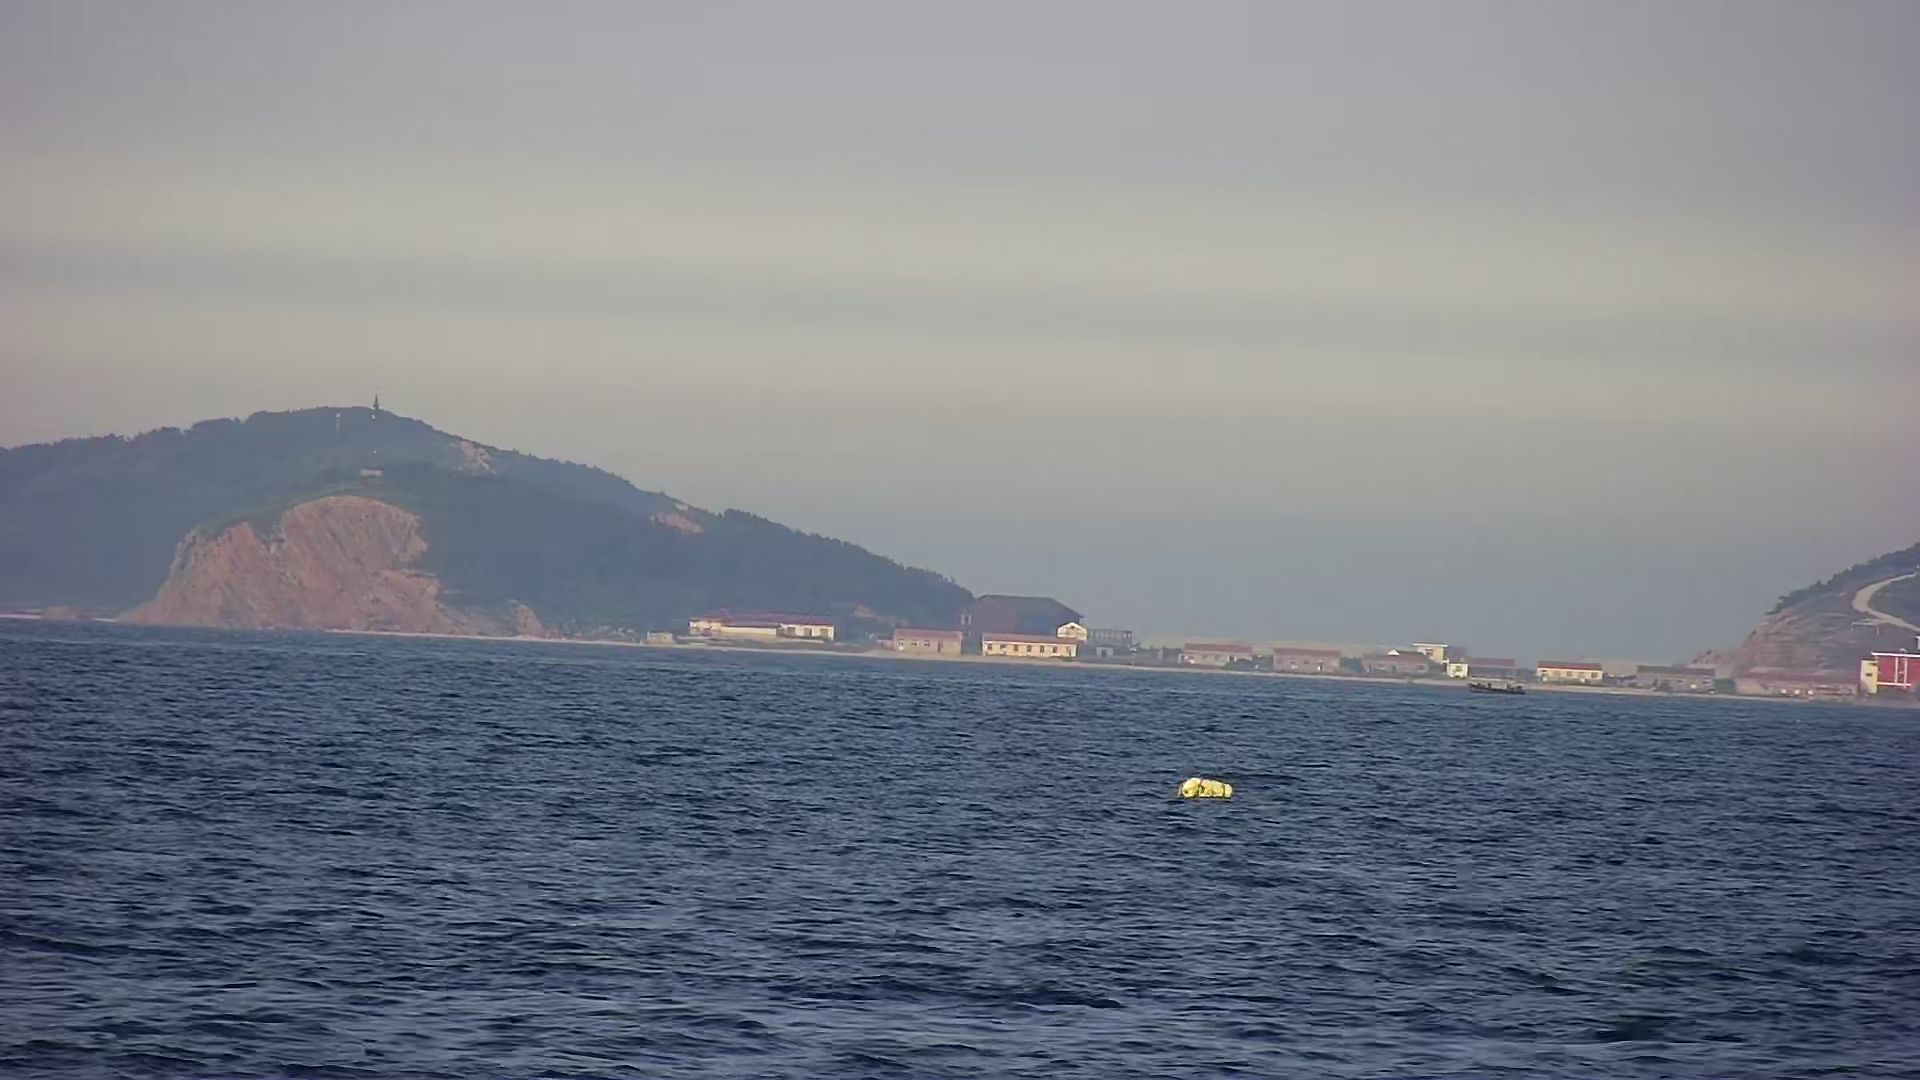rubbish: (1170, 757, 1253, 814)
